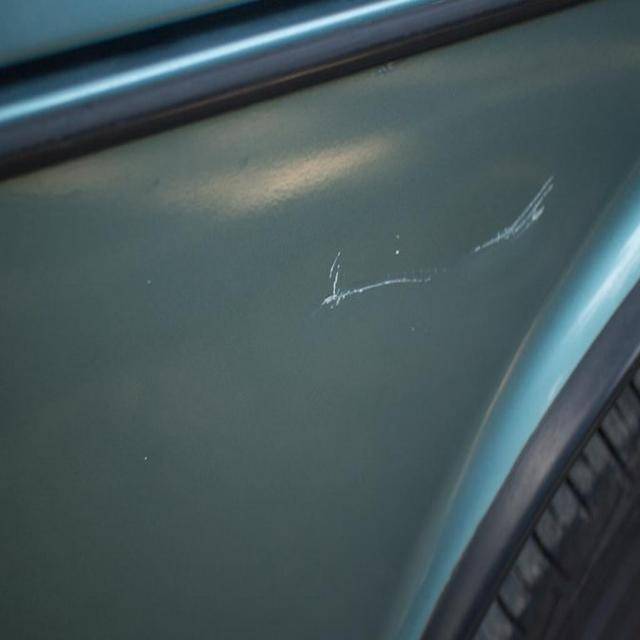scratch: (304, 156, 567, 328)
